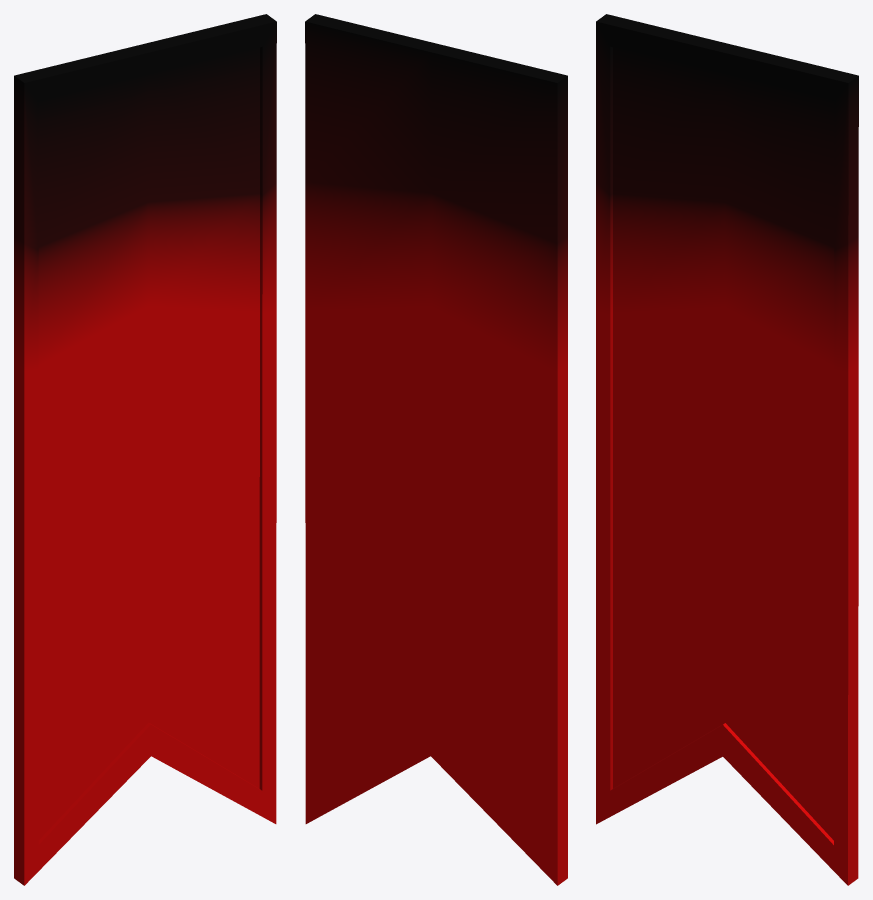
The model's file is Bandera.fbx.
3 views of the same model, side by side, from view 1: azimuth 30°, elevation 25°; view 2: azimuth 150°, elevation 25°; view 3: azimuth 330°, elevation 25° (orthographic).
Visible parts, largest first — view 1: Bandera1; view 2: Bandera1; view 3: Bandera1.
Boxes of the visible parts, left/top/right/bottom form: Bandera1: left=14, top=14, right=276, bottom=885; Bandera1: left=305, top=14, right=567, bottom=885; Bandera1: left=596, top=14, right=858, bottom=885.
Bounding box in the file's own units: 1.26 × 3.84 × 0.0891.
